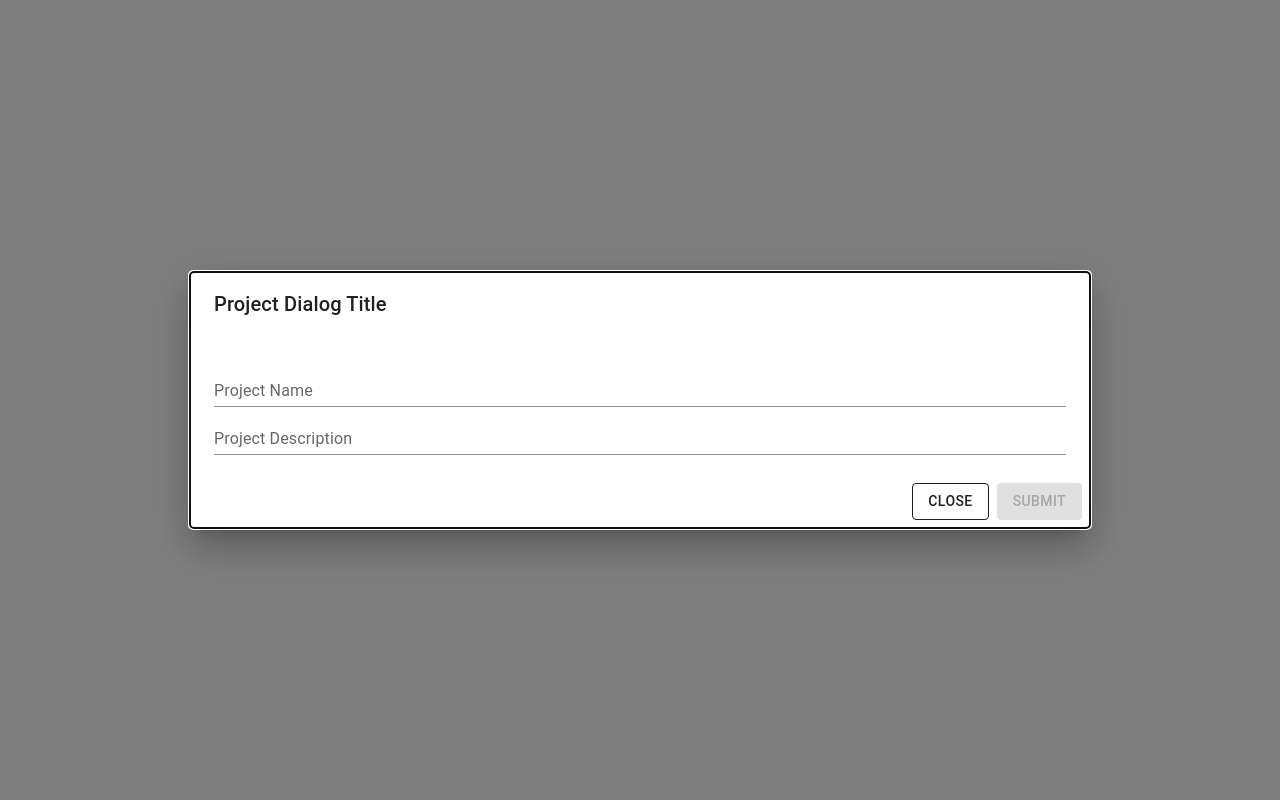
Test: should not submit if project name is empty
The width and height of the screenshot is (1280, 800).
Click the field labelled "Project Name" at (640, 391), box [214,375,1066,407]
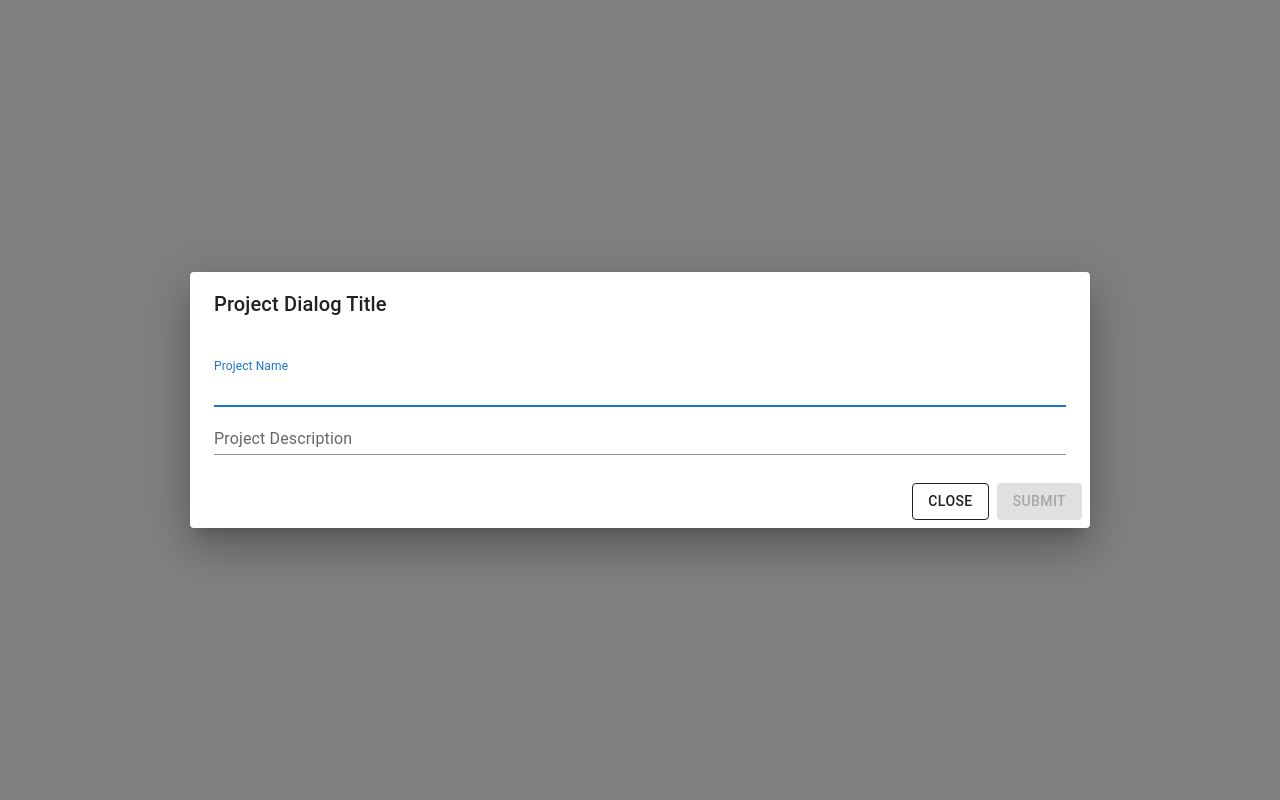
Type keys "Project Name"
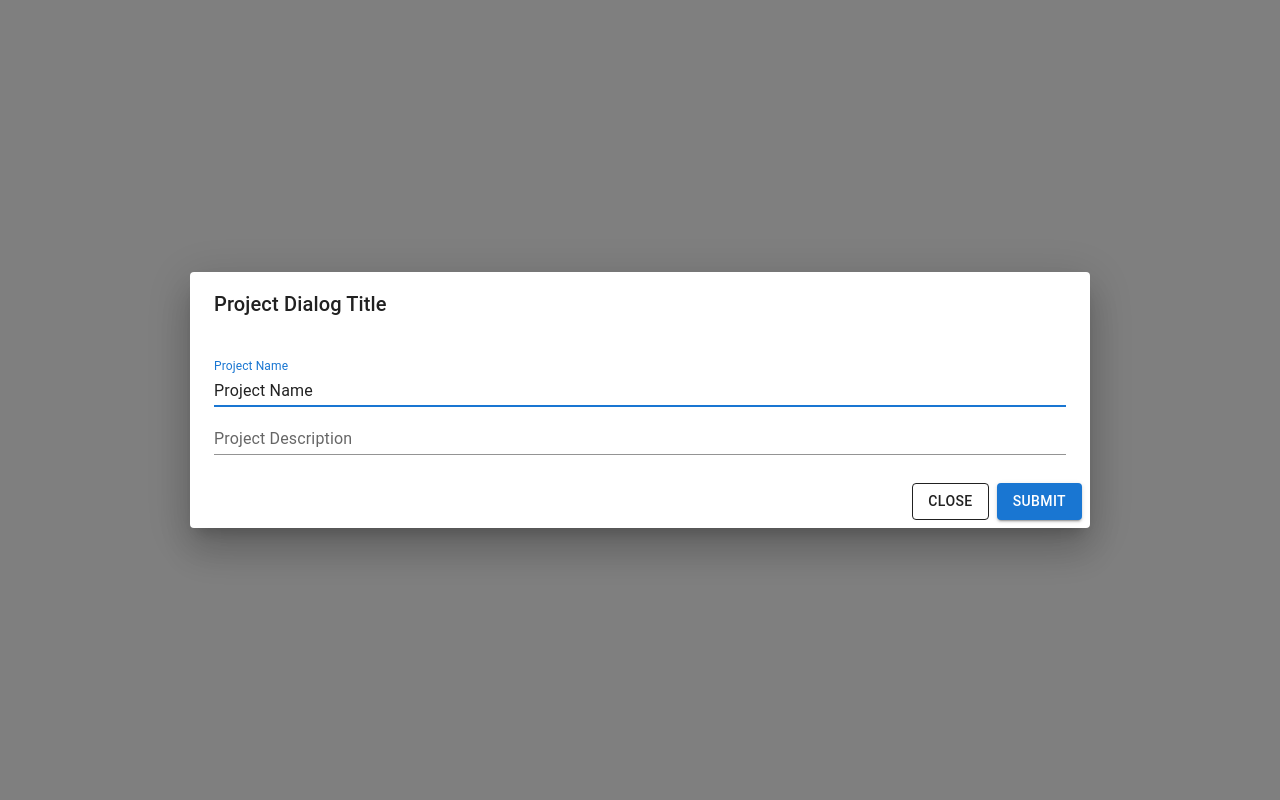
Click the text box labelled "Project Description" at (640, 439), box [214,427,1066,450]
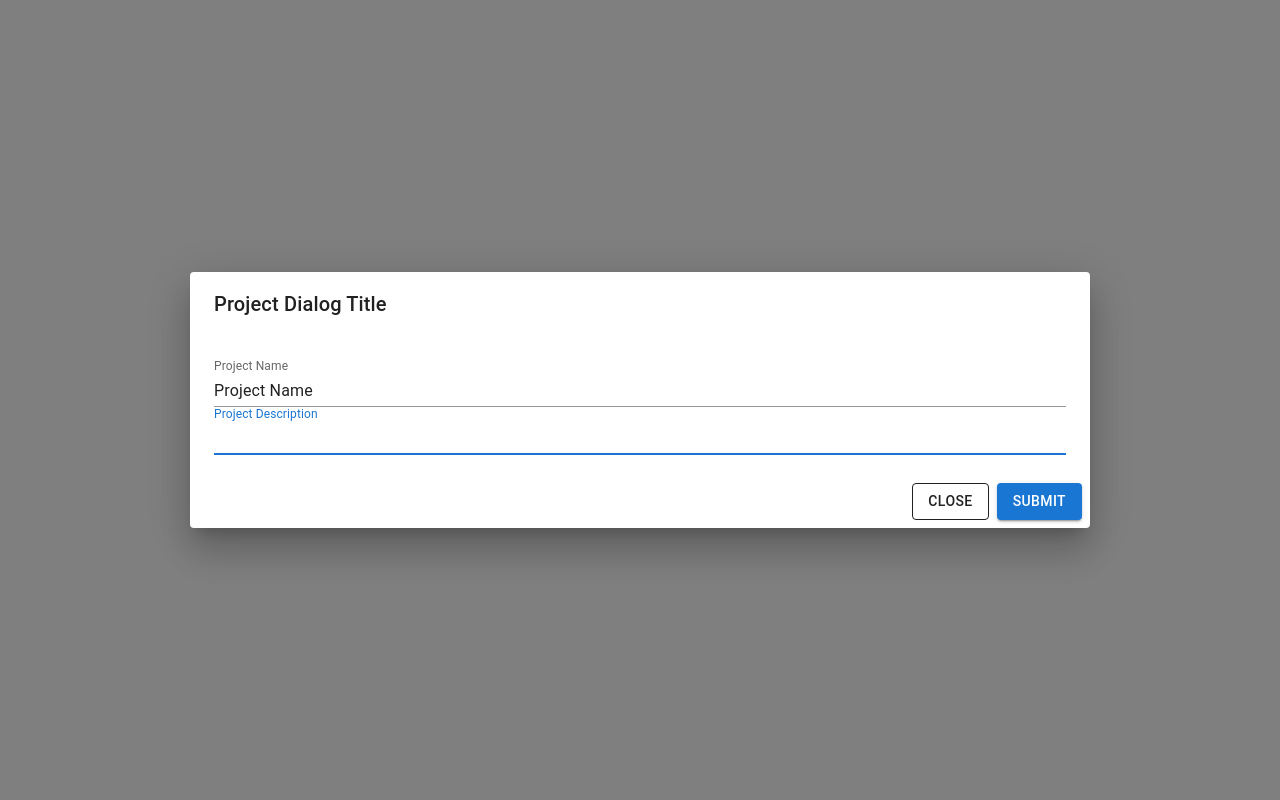
Type keys "Project Description"
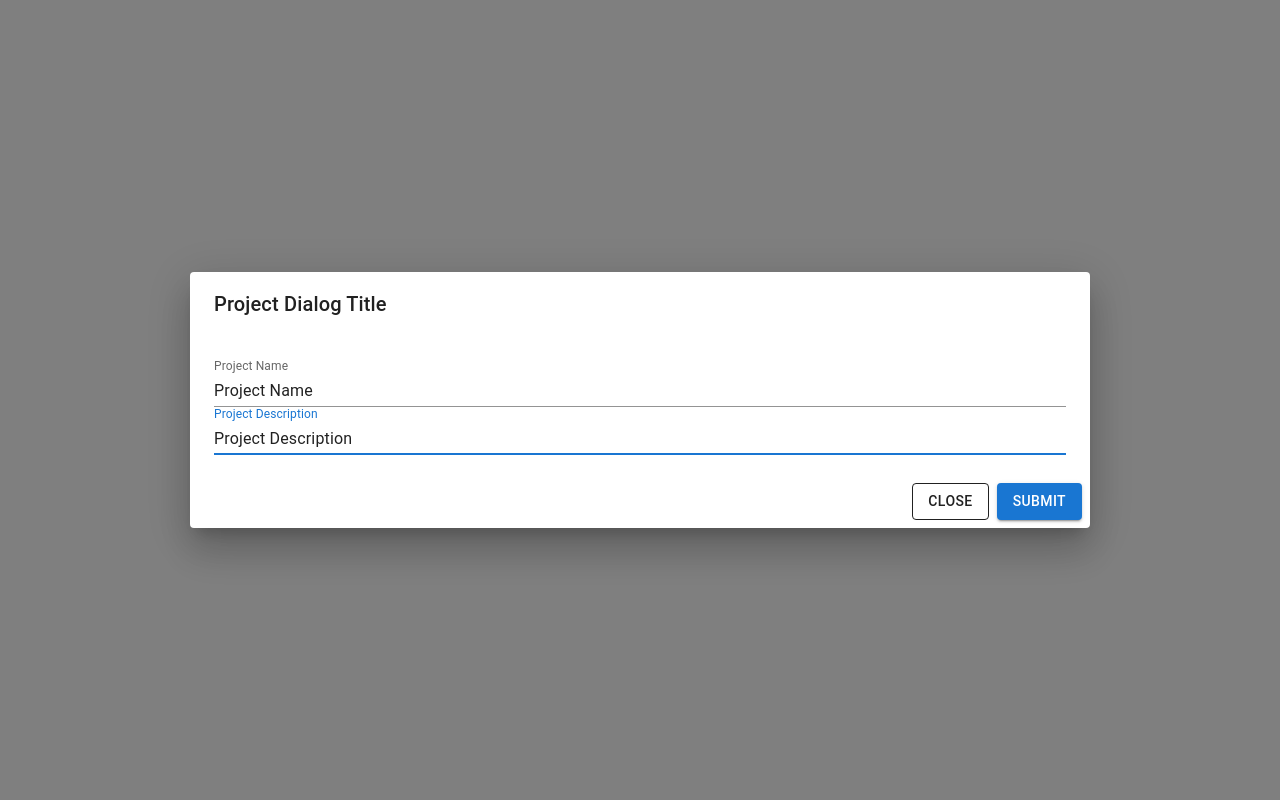
Expected: the button "Submit" is enabled, [997,483,1082,520]
Clear the field labelled "Project Name" at (640, 391), box [214,375,1066,407]
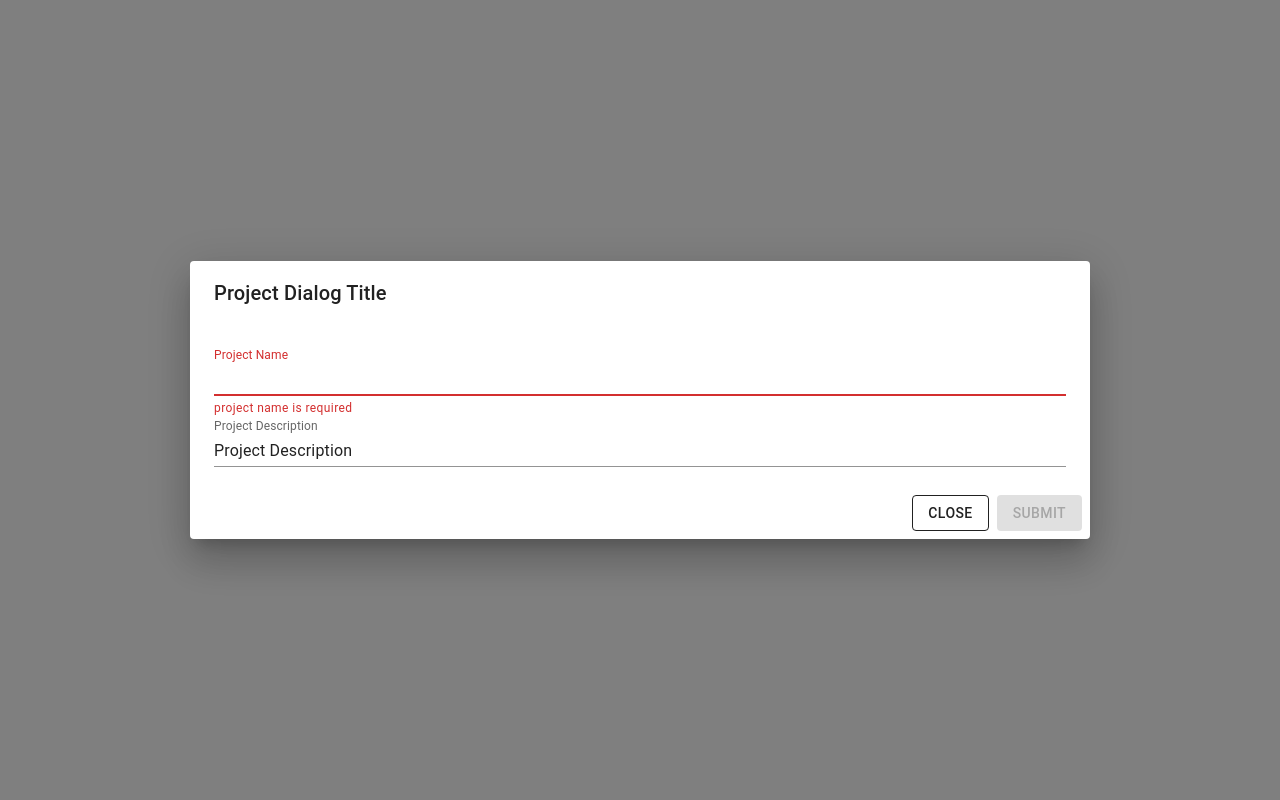
Expected: the button "Submit" is disabled, [997,495,1082,531]
Expected: the text "project name is required" is shown, [214,401,352,415]
